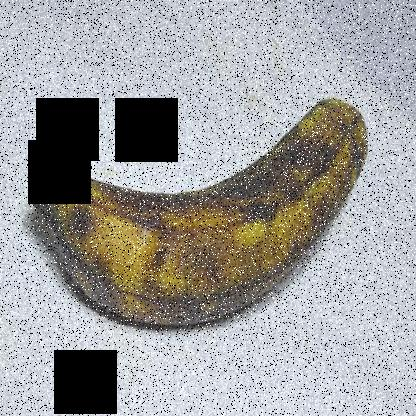overripe: (24, 81, 371, 342)
